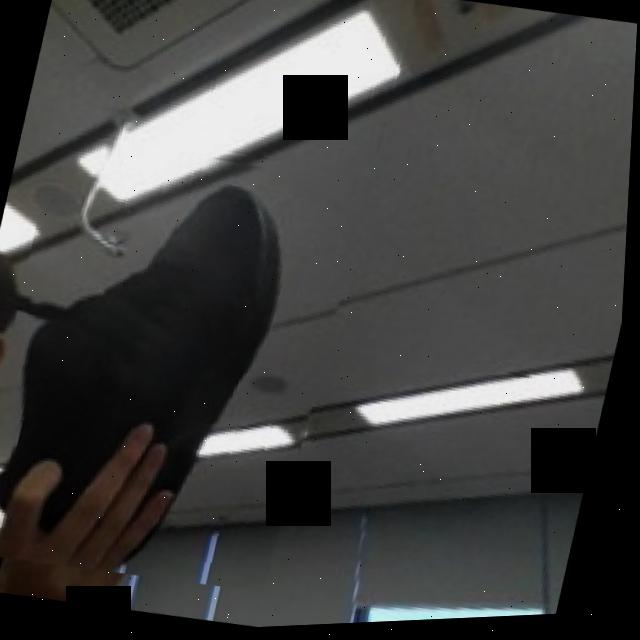shoe: (0, 122, 376, 607)
